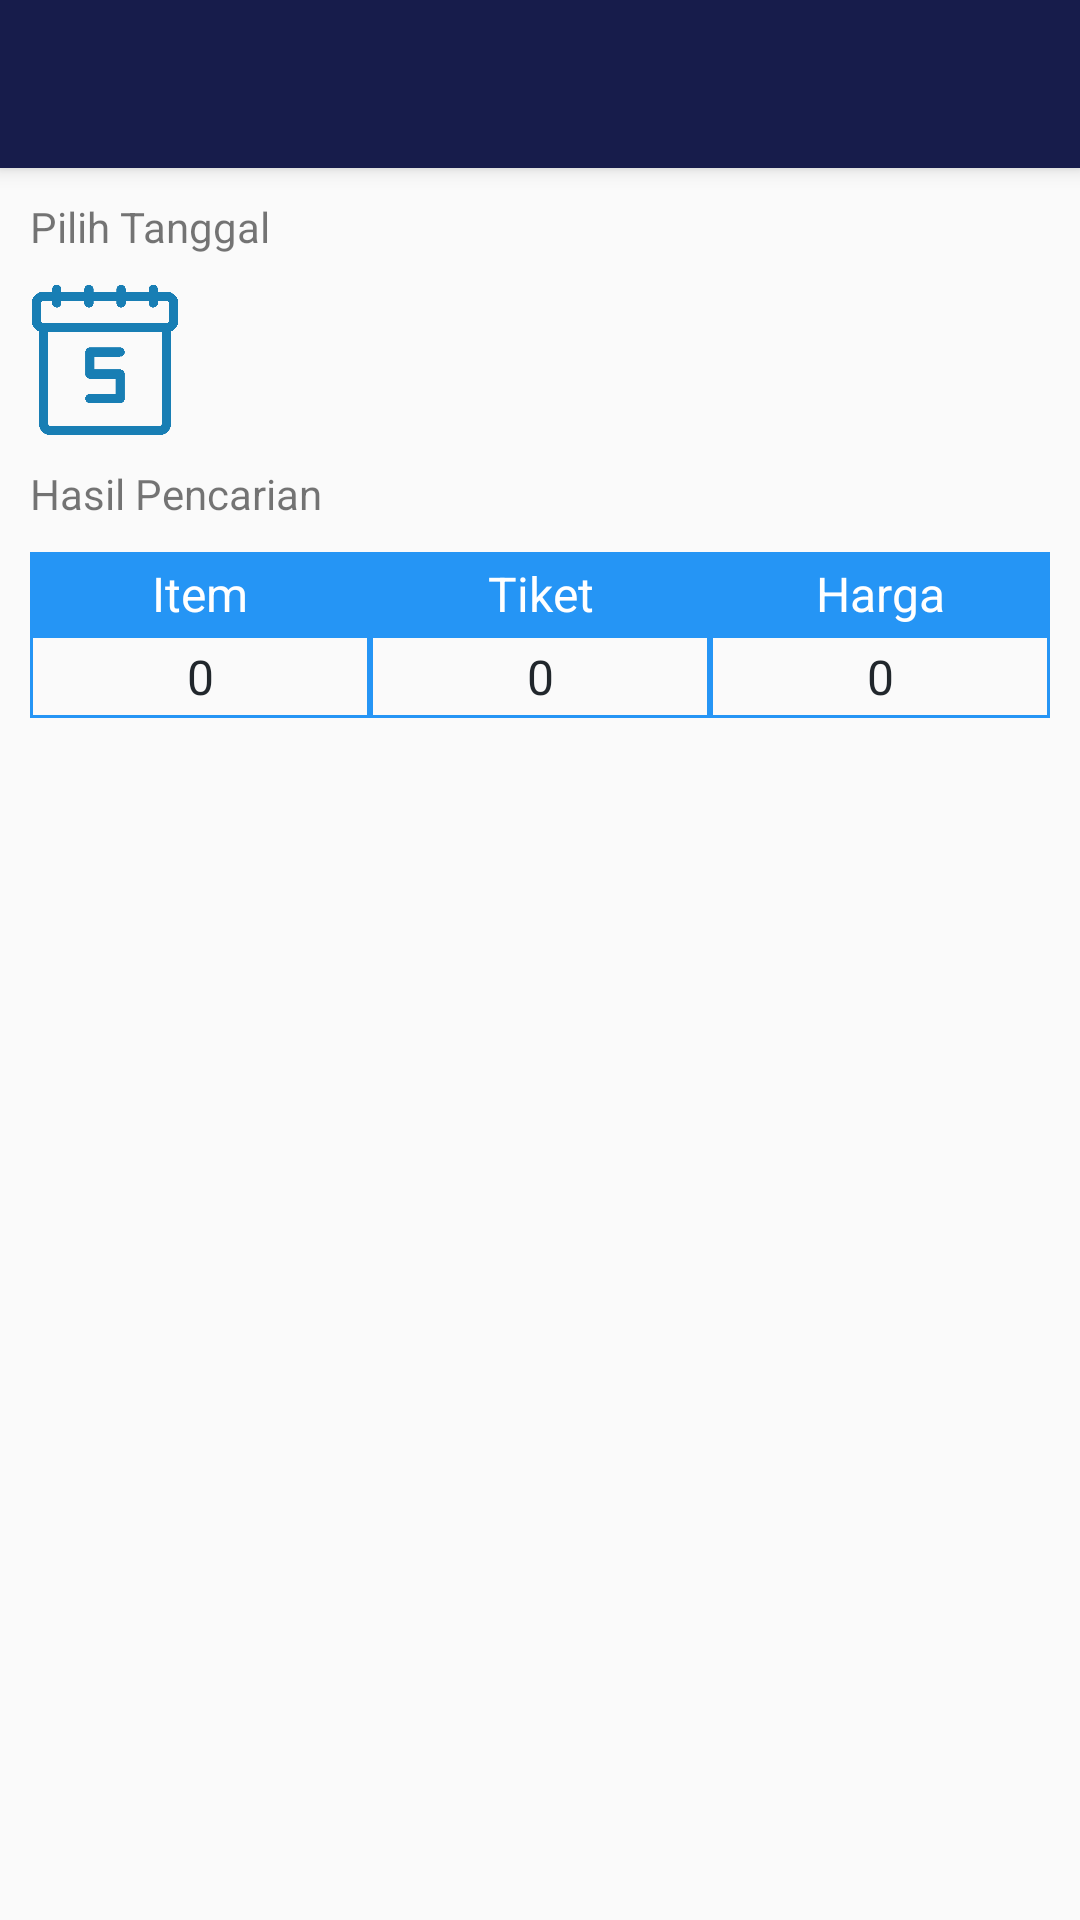

Icon click points for this 1080w x 1920h phone screenshot, format (x,y):
date: (105,360)
